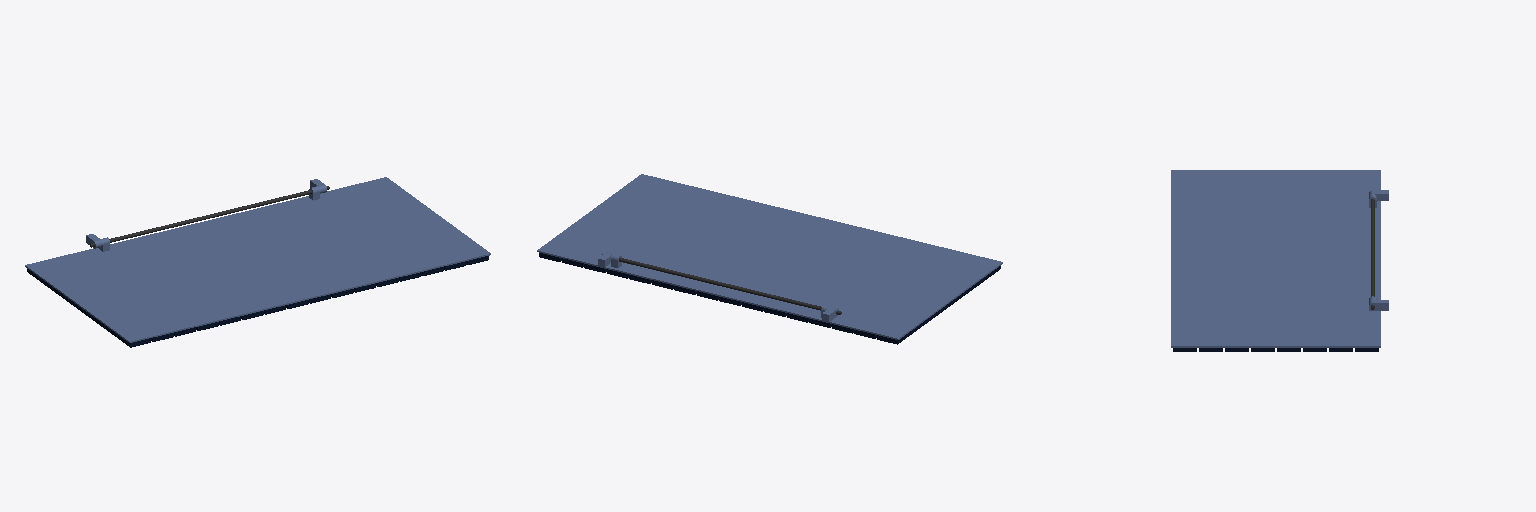
The model's file is DarkmatterSailboard.obj.
The picture shows the model from 3 angles: view 1: azimuth 30°, elevation 25°; view 2: azimuth 150°, elevation 25°; view 3: azimuth 270°, elevation 25°; orthographic projection.
Parts seen in each view (by area): view 1: Box250, Box252; view 2: Box250, Box252; view 3: Box250.
Part boxes in pixels (x1,y1,x2,y2): Box250: (25,177,490,347); Box252: (90,186,329,247); Box250: (537,174,1002,344); Box252: (602,254,841,314); Box250: (1171,170,1380,351).
Size of the model in its own units: 109 by 5.33 by 57.14.